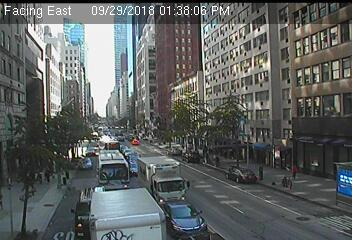car: (89, 188, 165, 240), (137, 156, 188, 210), (158, 200, 208, 240), (71, 188, 107, 240), (97, 149, 129, 194), (225, 167, 256, 184), (103, 142, 120, 157), (127, 160, 142, 176), (182, 152, 198, 163), (79, 158, 92, 169), (128, 153, 138, 164), (167, 148, 179, 157), (85, 148, 96, 157), (131, 139, 139, 146)
